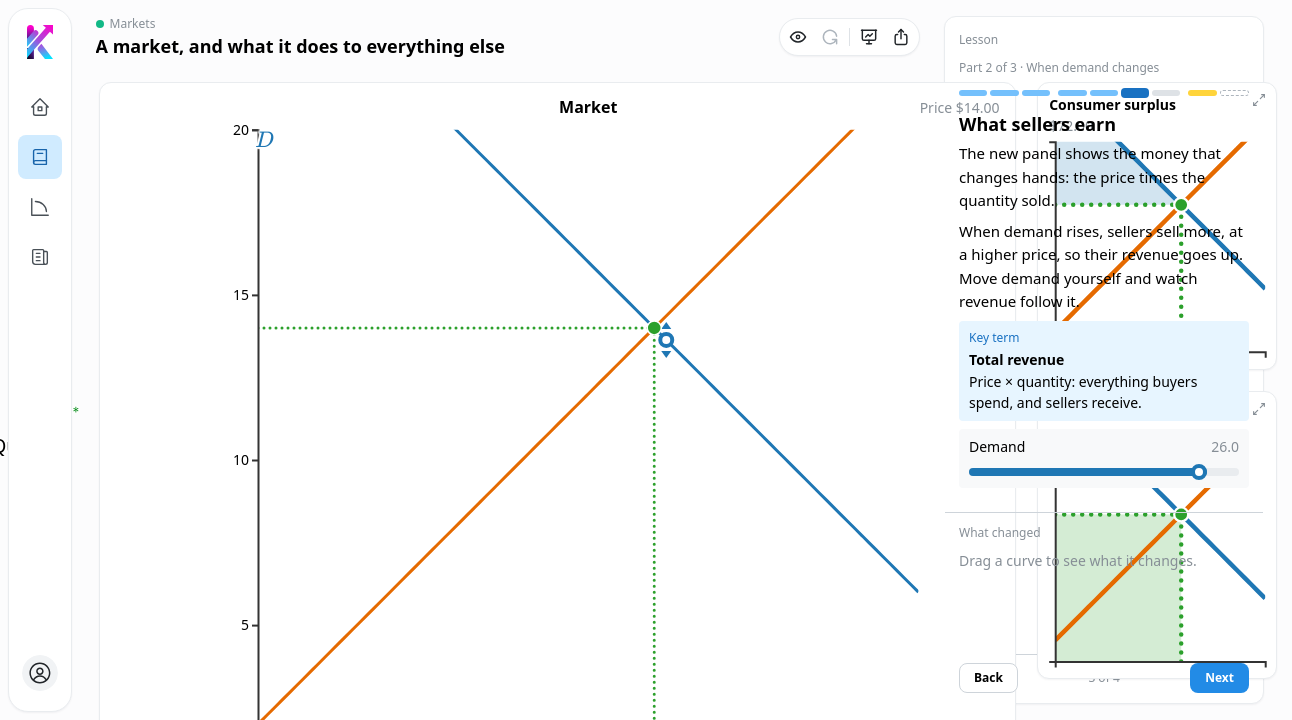
Scenario: Share › says so, and stays open, when the browser will not draw the picture
Click the button named "Share" at point(902, 37), box [886, 22, 916, 52]
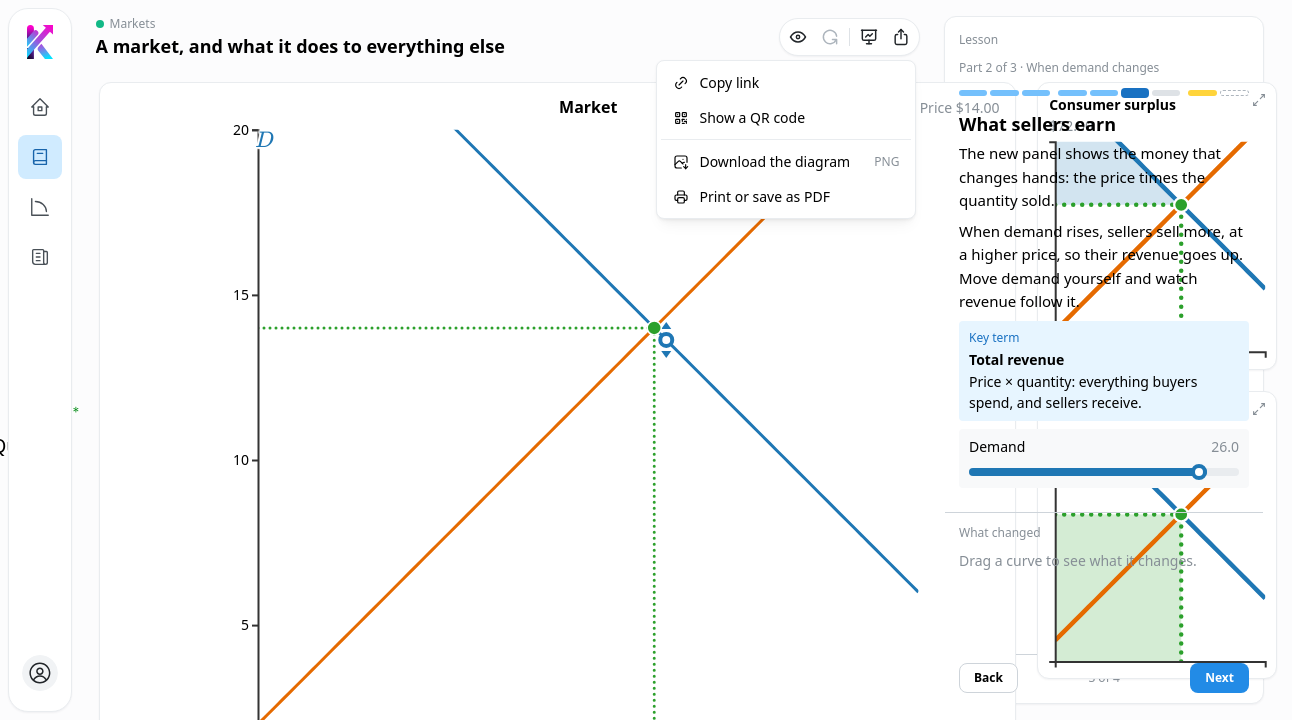
Click the menu item "Download the diagram PNG" at point(786, 162), box [662, 144, 912, 179]
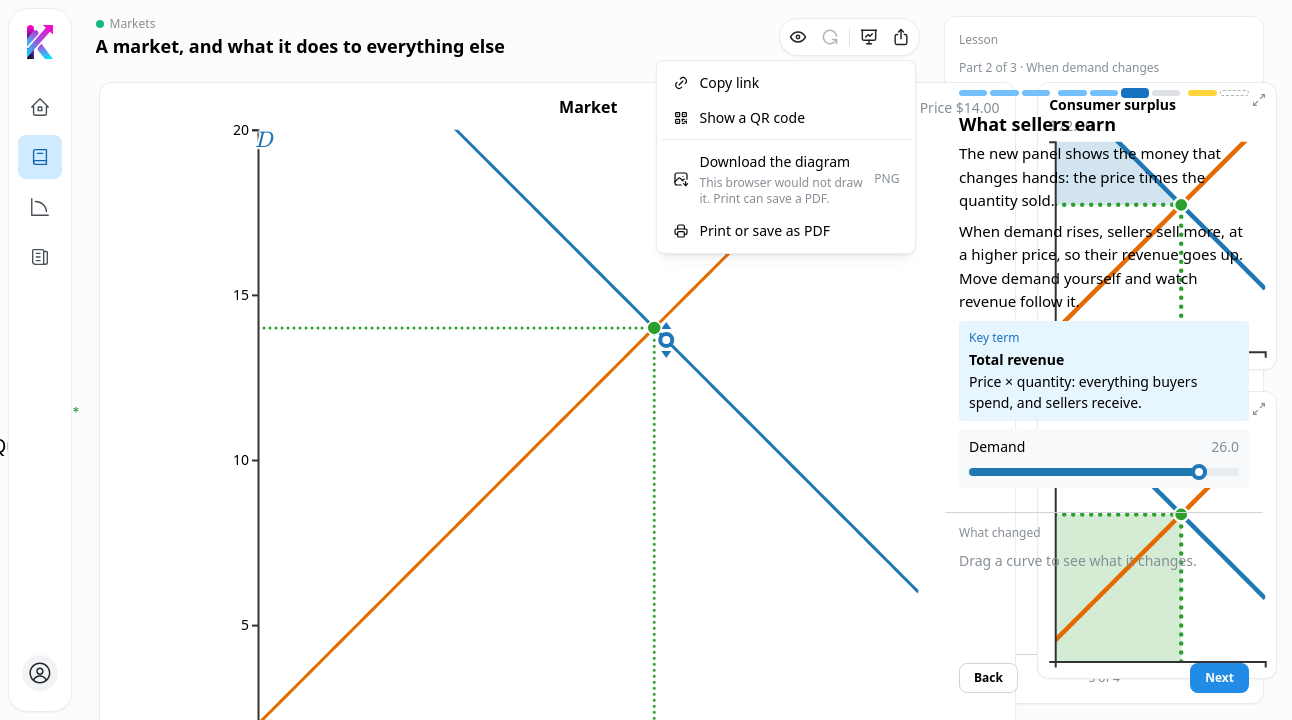
Result: the menu item "Download the diagram" shows "would not draw it" at [662, 144, 912, 214]
